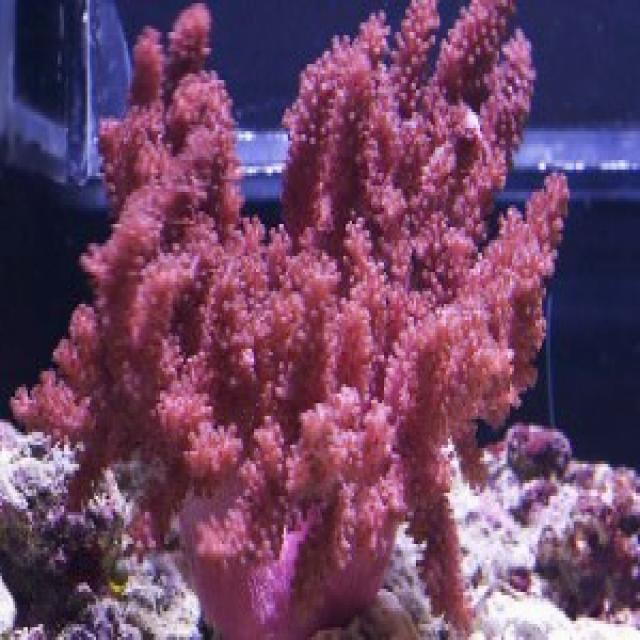Coral: (8, 0, 571, 640)
